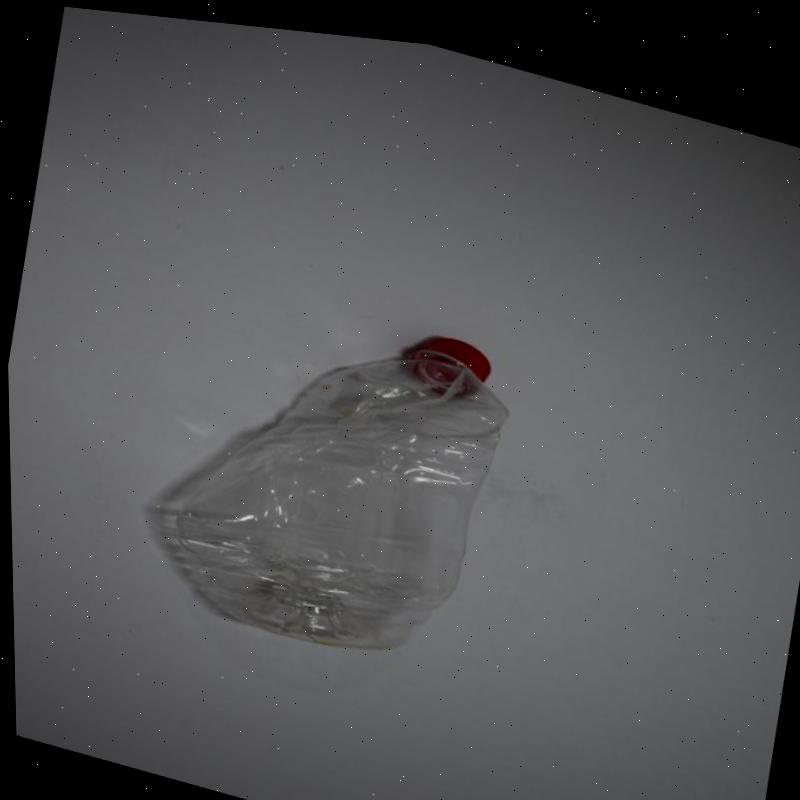botella: (113, 249, 527, 684)
